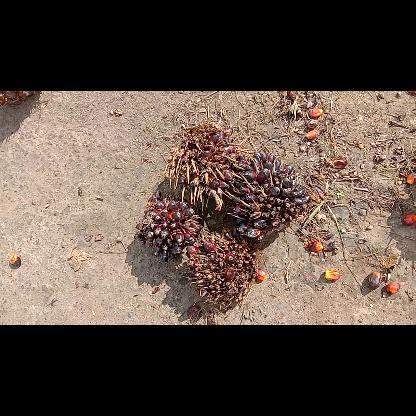TBS abnormal: (231, 152, 310, 238), (164, 124, 244, 206), (186, 228, 258, 306), (136, 190, 200, 262)
